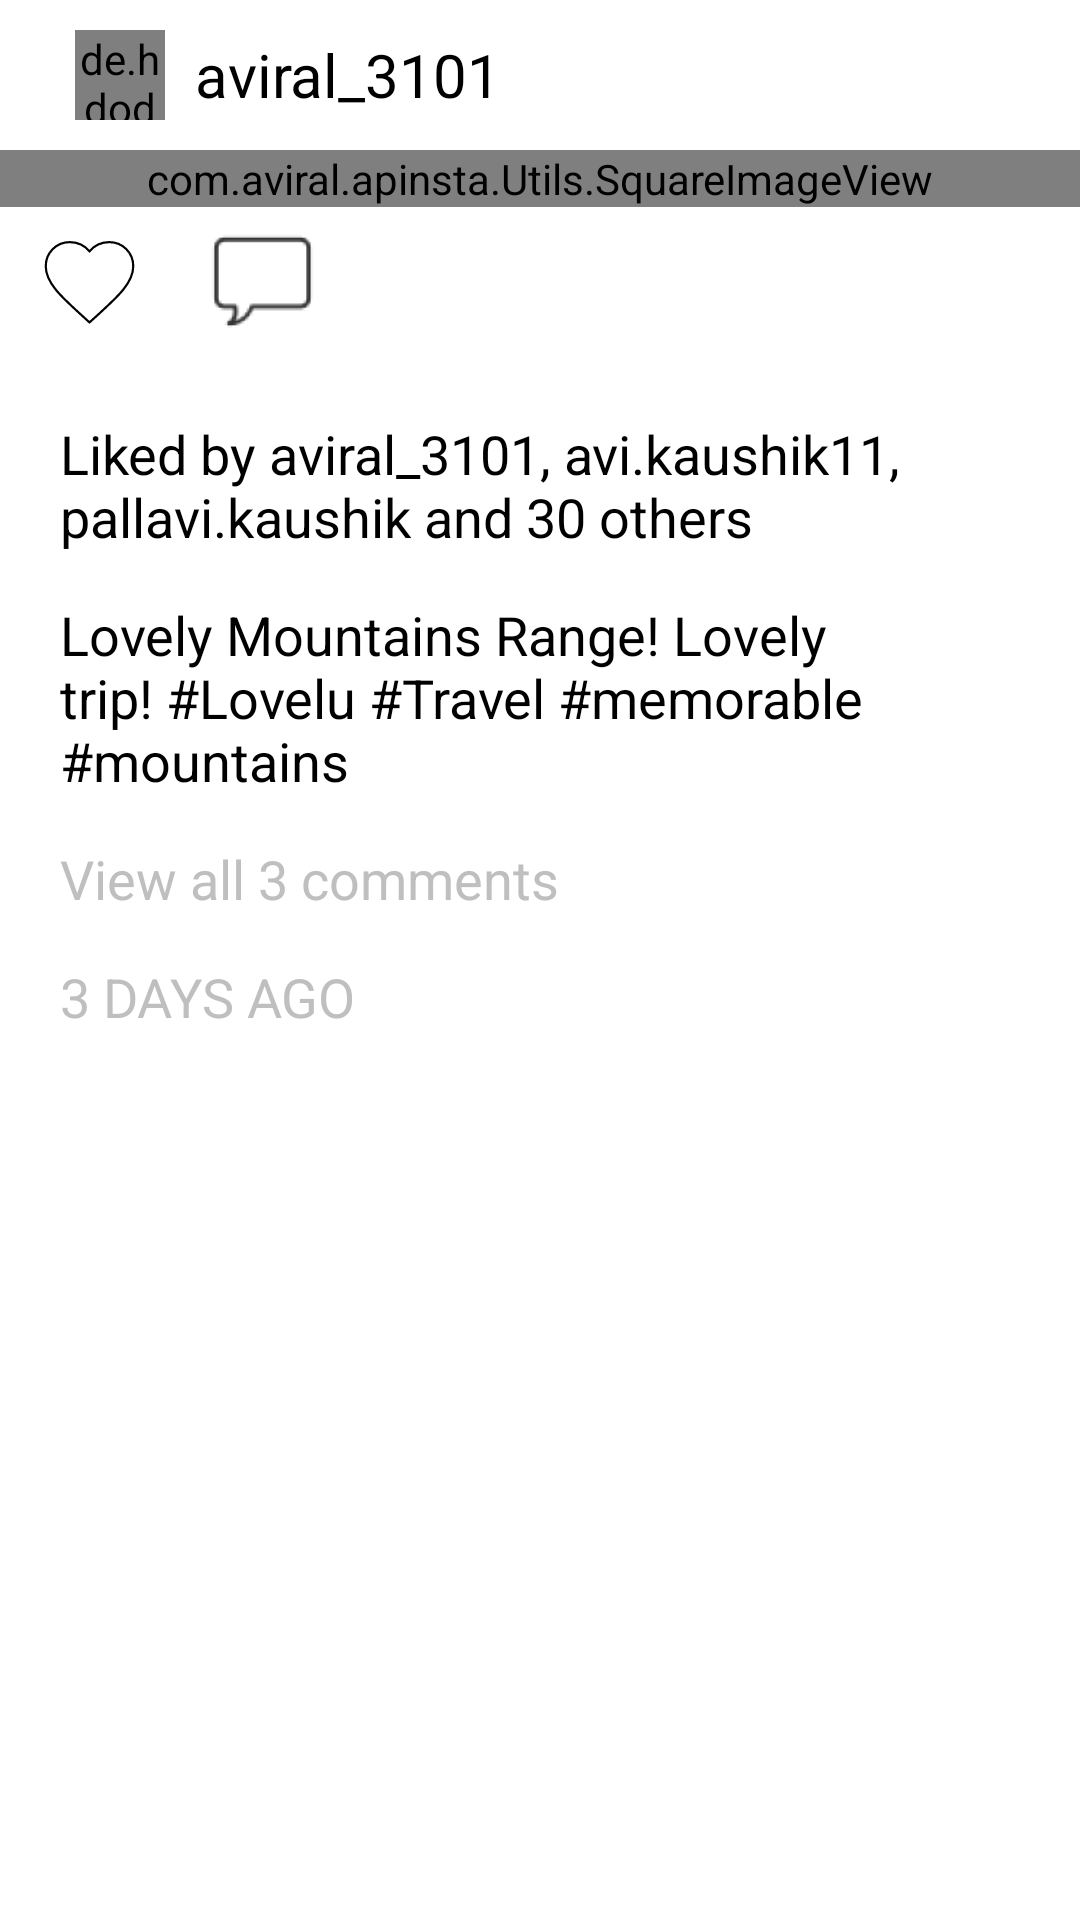

Screen size 1080px x 1920px. Icon name, then its center in pixels as point (x, y):
Comments: point (262, 281)
heart: point (89, 282)
